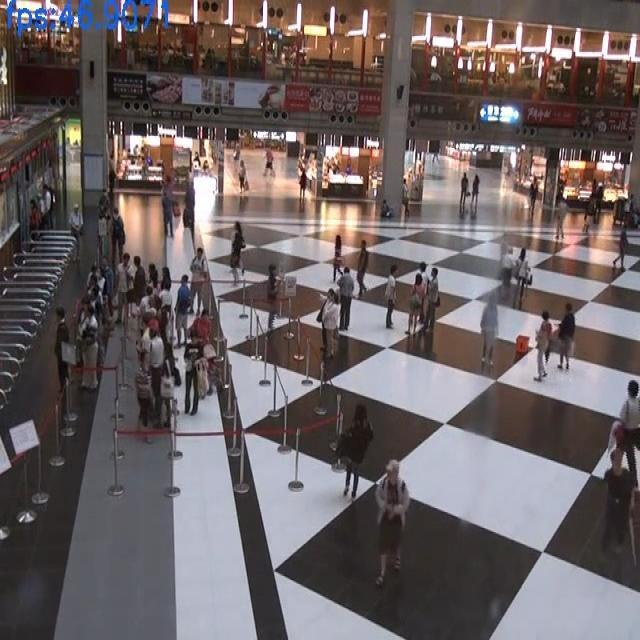abandoned-object: (512, 322, 540, 374)
